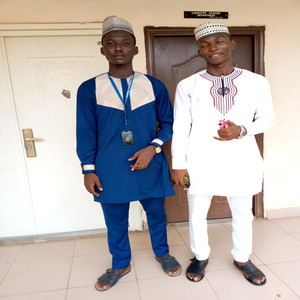Fulokoja_male_student: (78, 18, 169, 283), (175, 31, 265, 284)
